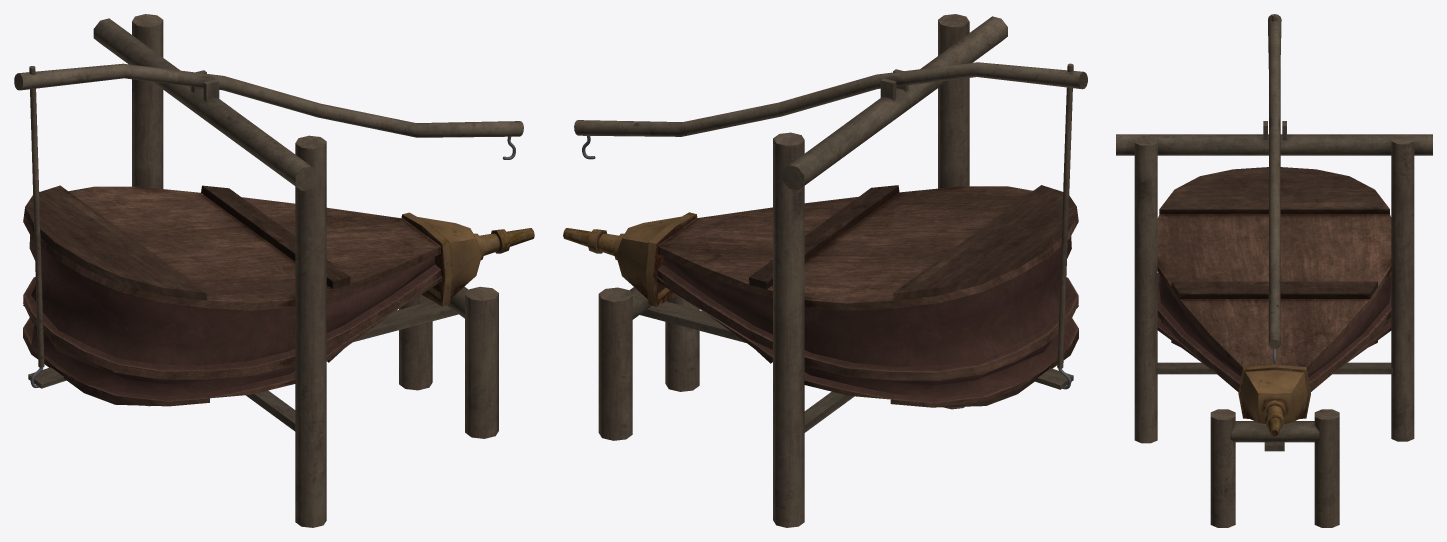
File: kk_modified_forge_bellow.glb
3 views of the same model, side by side, from view 1: azimuth 30°, elevation 25°; view 2: azimuth 150°, elevation 25°; view 3: azimuth 270°, elevation 25° (orthographic). The views are drawn at different scales.
Visible parts, largest first — view 1: Fuelle; view 2: Fuelle; view 3: Fuelle.
Boxes of the visible parts, box(x1,y1,x2,y2) form: Fuelle: box(14, 14, 534, 527); Fuelle: box(563, 14, 1087, 527); Fuelle: box(1116, 14, 1432, 527).
Size of the model in its own units: 45.1 by 37.08 by 30.64.
1 material, 1 textured.
